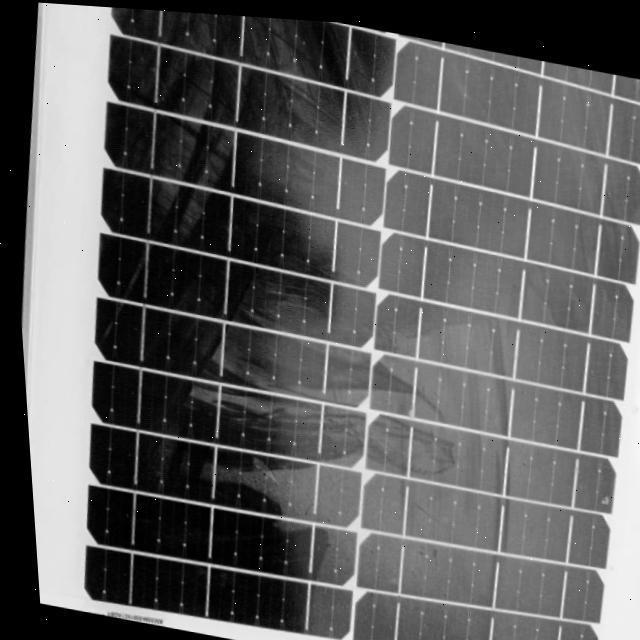Surface Contaminant: (62, 290, 619, 640)
